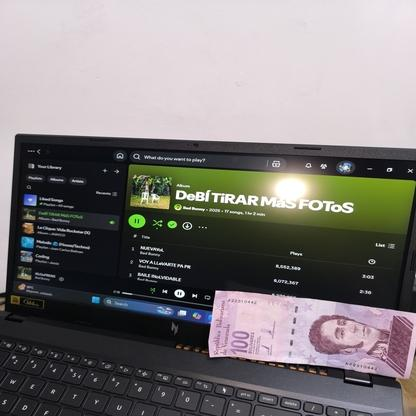one_hundred-front-vef: (208, 290, 416, 379)
